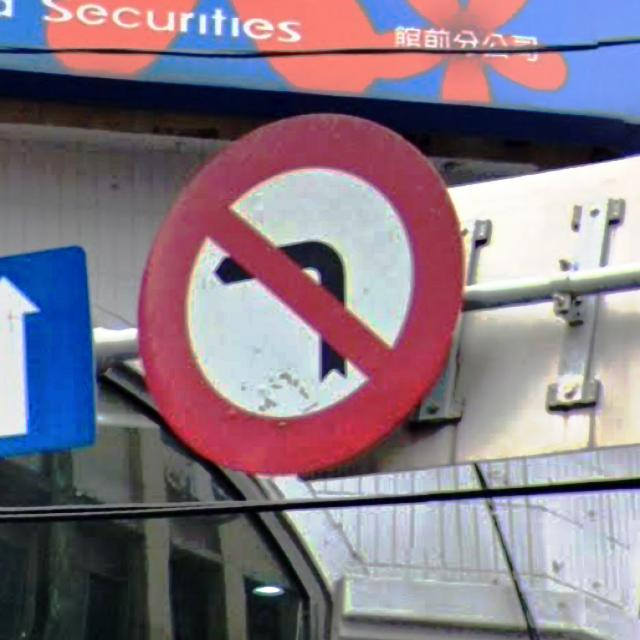noturnleft: (138, 114, 466, 477)
